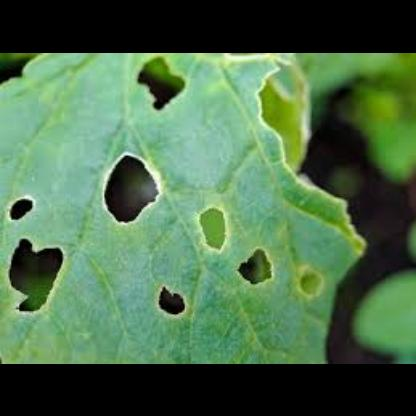agujero: (252, 62, 376, 244), (98, 146, 171, 228), (8, 237, 74, 325), (134, 54, 188, 116), (193, 202, 228, 255), (146, 277, 192, 317), (231, 250, 279, 284), (294, 262, 324, 302), (9, 191, 42, 227)
